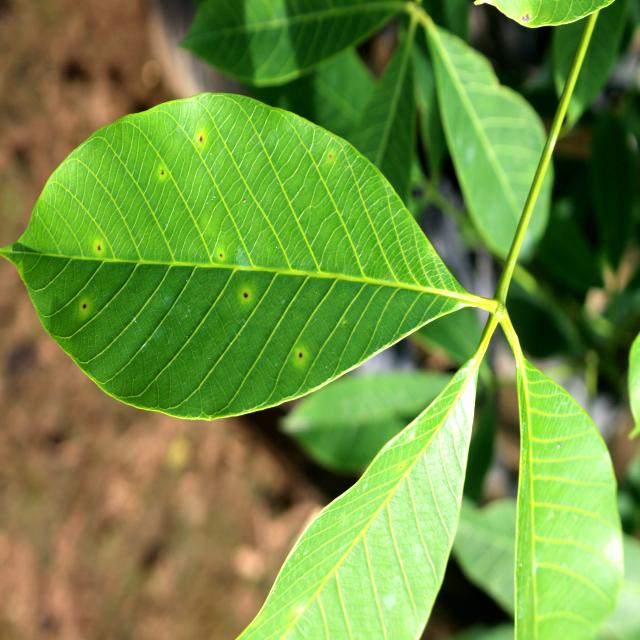Colletotrichum: (244, 293, 248, 298), (299, 353, 302, 358)
